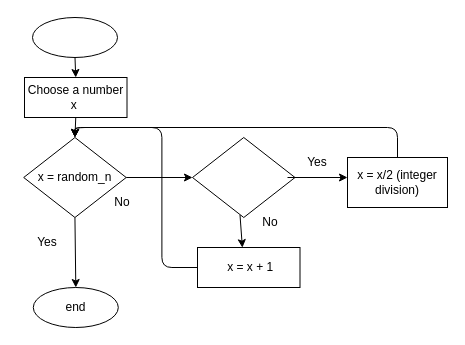
This 465x345 diagram has some shape labels left out. Here are the shapes that lost their labels. From the top down, the box of each, then its label:
(32, 16, 118, 58): start
(192, 136, 295, 218): x > random_n
